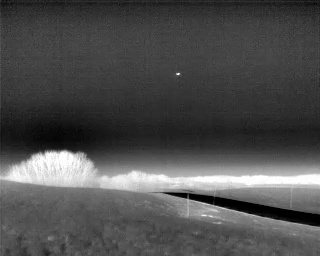AIRPLANE: (174, 70, 182, 78)
